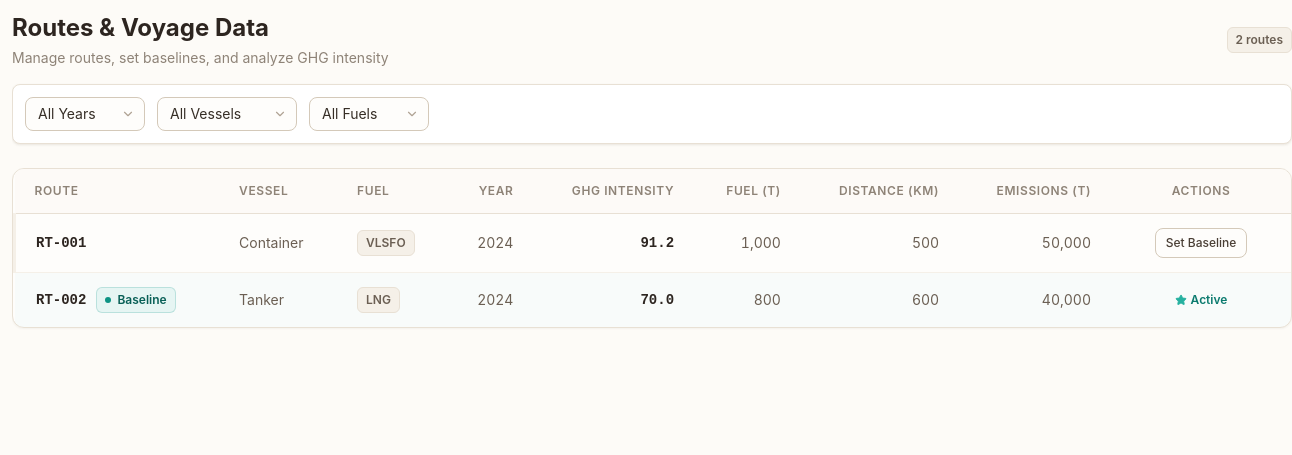
Test case: RoutesTab › shows empty state when no routes match filter
This screenshot has width=1292, height=455.
Expected: the text "RT-001" is shown, x1=36 y1=233 x2=86 y2=253
Select "RoPax / RoRo" in the dropdown named "Filter by vessel type": x=227, y=114 x1=157 y1=97 x2=297 y2=131
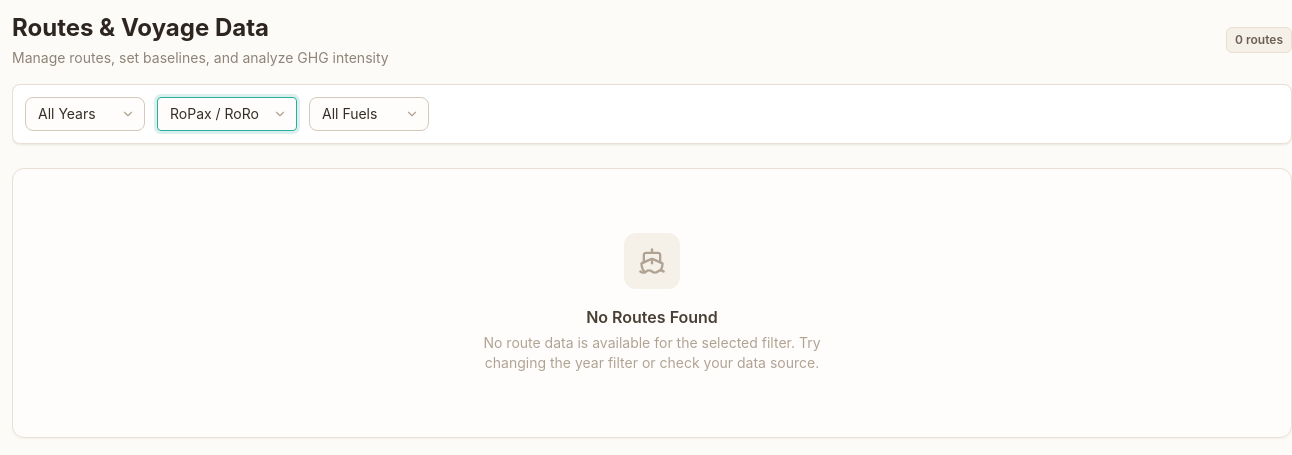
Expected: the heading "No Routes Found" is shown, x1=586 y1=305 x2=718 y2=329
